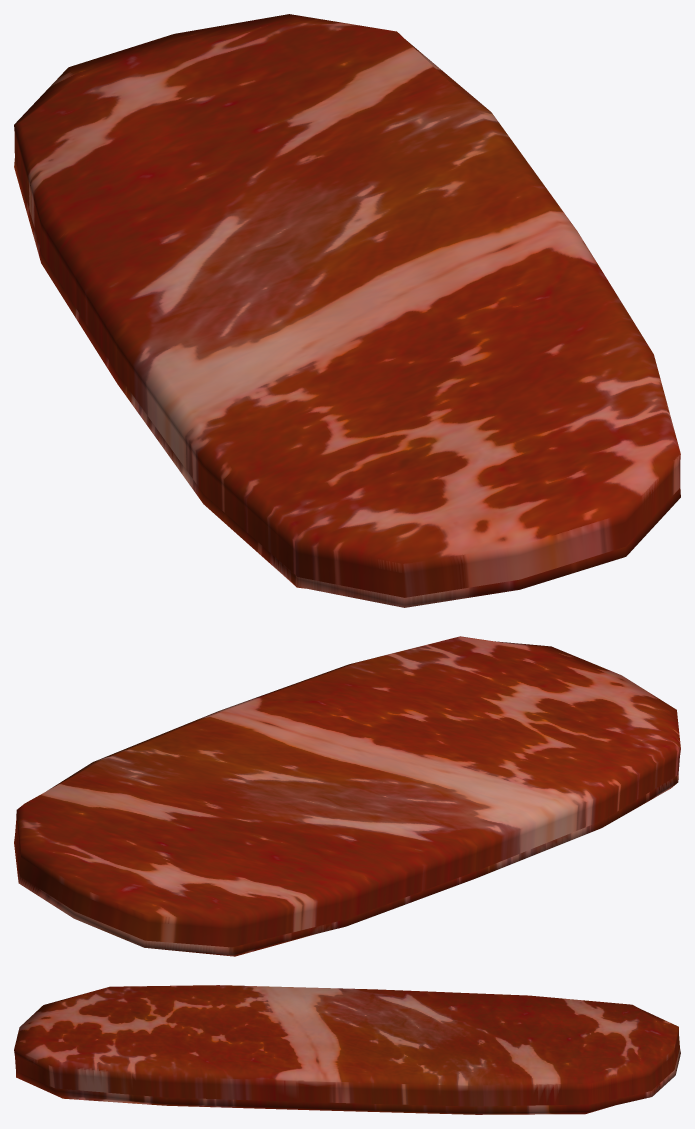
The model's file is beef.glb.
3 renders of one model, top to bottom at view 1: azimuth 30°, elevation 25°; view 2: azimuth 150°, elevation 25°; view 3: azimuth 270°, elevation 25°, orthographic. The views are drawn at different scales.
Visible parts, largest first — view 1: beef; view 2: beef; view 3: beef.
Part boxes in pixels (left/top/right/bottom): beef: left=14, top=14, right=680, bottom=607; beef: left=14, top=636, right=680, bottom=956; beef: left=14, top=985, right=680, bottom=1114.
Bounding box in the file's own units: 0.063 × 0.0174 × 0.1199.
Materials: 1 (1 with a texture image).
